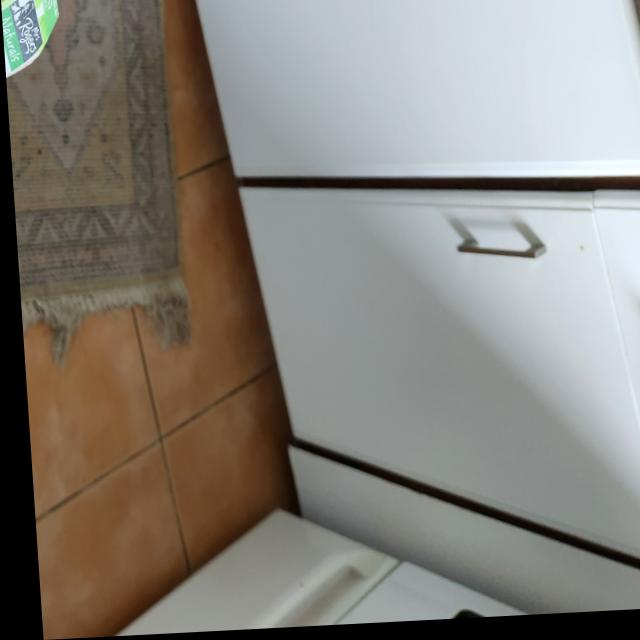cayenne pepper: (0, 0, 66, 147)
